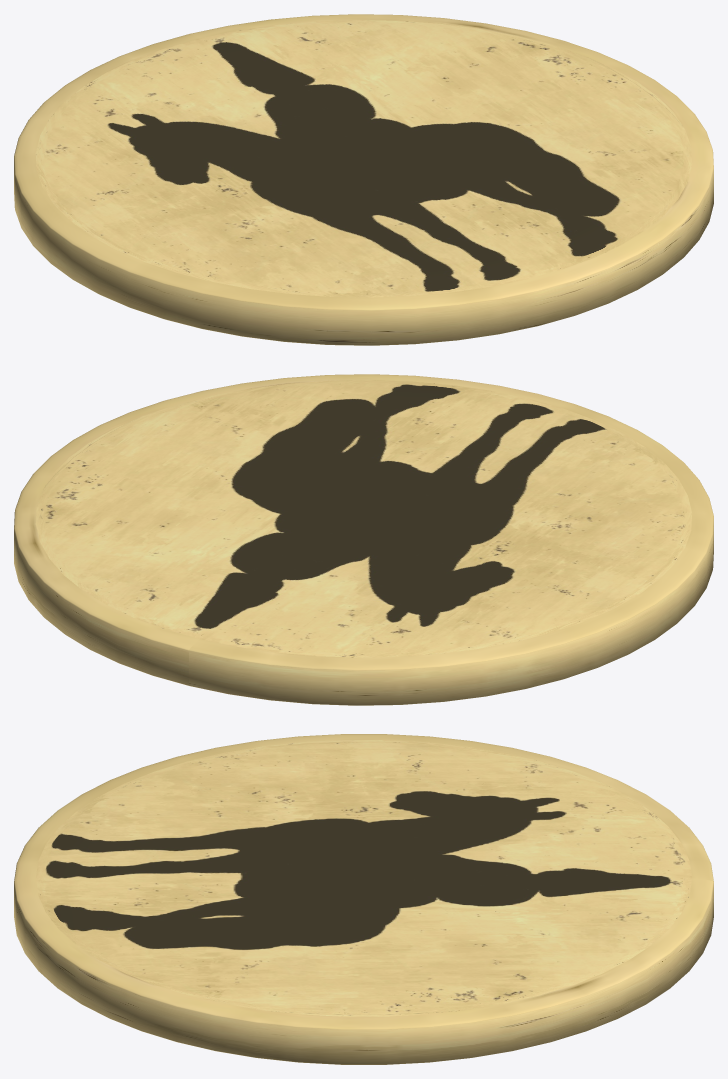
The model's file is Royal Gaurd Token.fbx.
3 views of the same model, one above another, from view 1: azimuth 30°, elevation 25°; view 2: azimuth 150°, elevation 25°; view 3: azimuth 270°, elevation 25° (orthographic).
Parts seen in each view (by area): view 1: Cylinder; view 2: Cylinder; view 3: Cylinder.
Part boxes in pixels (x1,y1,x2,y2): Cylinder: (14, 14, 713, 345); Cylinder: (14, 374, 713, 705); Cylinder: (14, 734, 713, 1064).
Bounding box in the file's own units: 200 × 14.64 × 200.
